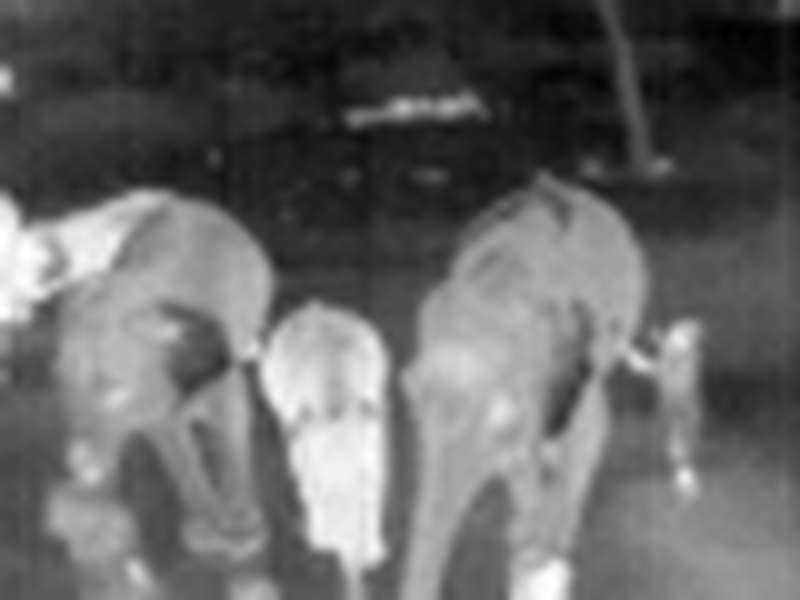elephant: (2, 176, 642, 600)
